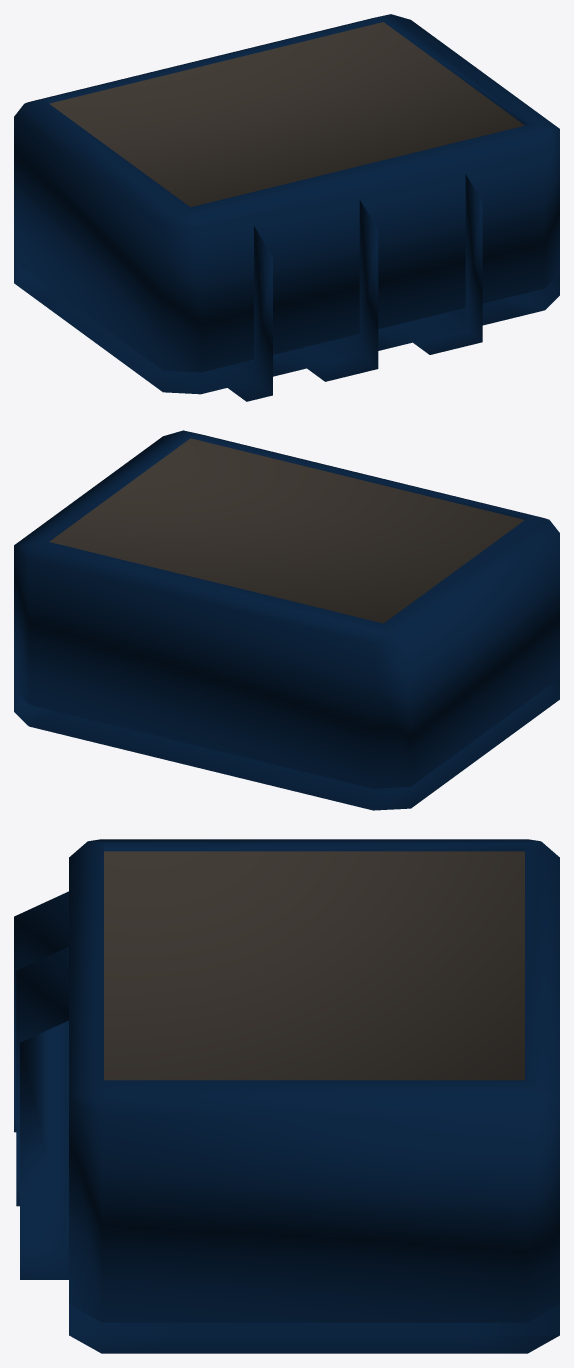
File: hub_blue_lvl1.glb
The picture shows the model from 3 angles, top to bottom: view 1: azimuth 30°, elevation 25°; view 2: azimuth 150°, elevation 25°; view 3: azimuth 270°, elevation 25°; orthographic projection. The views are drawn at different scales.
Parts seen in each view (by area): view 1: Cube; view 2: Cube; view 3: Cube.
Boxes of the visible parts, x1,y1,x2,y2 form: Cube: (14,14,559,401); Cube: (14,430,559,810); Cube: (14,839,559,1353).
Size of the model in its own units: 8 by 3.42 by 6.67.
